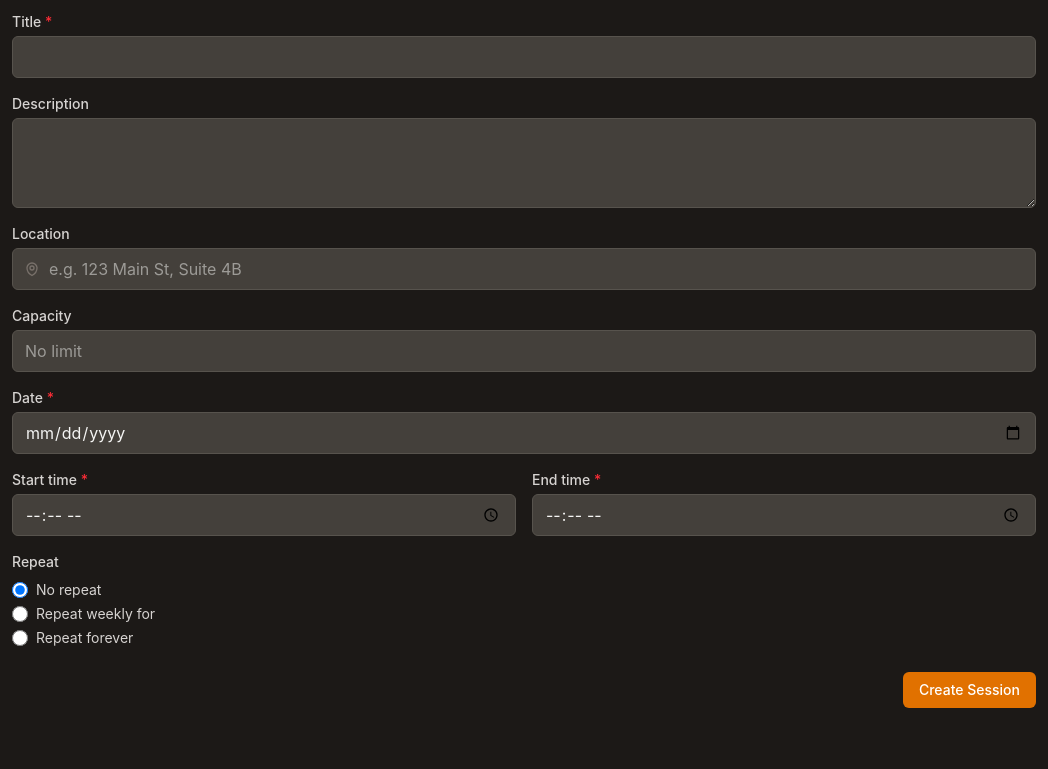
Test case: SessionForm › create mode › shows week count input when repeat weekly selected
What coordinates should you click on to do the following:
click the radio button labelled "Repeat weekly for"
I would click on:
 (20, 614)
Its box is [12, 606, 28, 622].
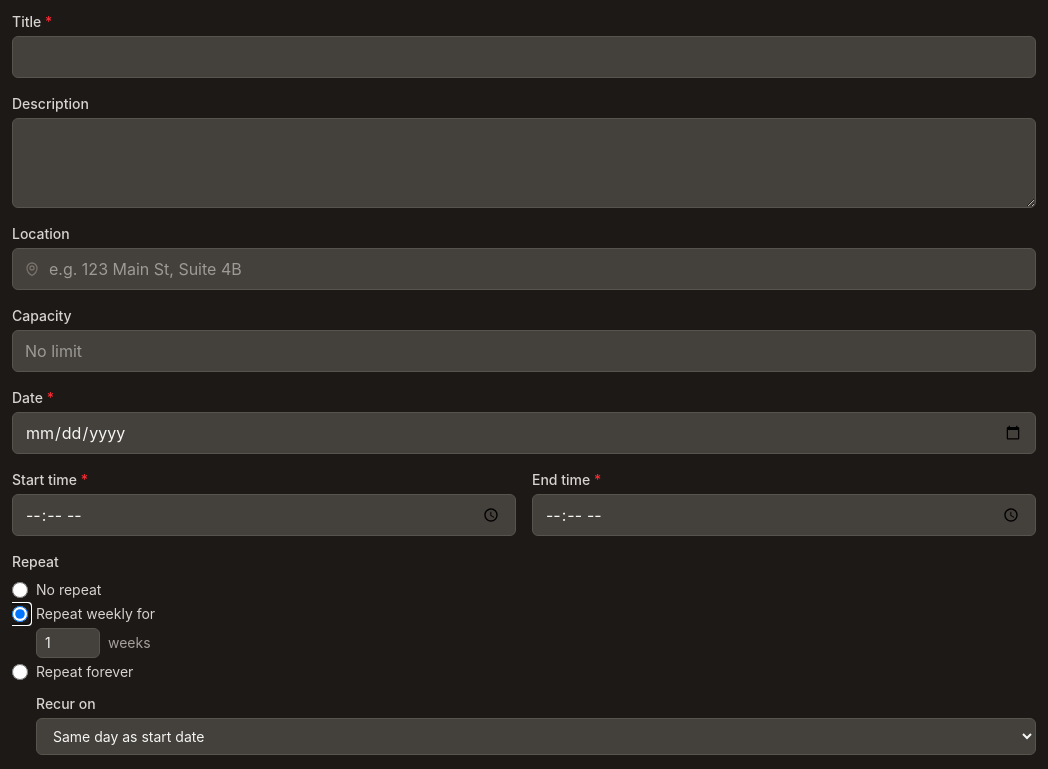
Result: the text "weeks" is shown at [108, 633, 151, 653]
